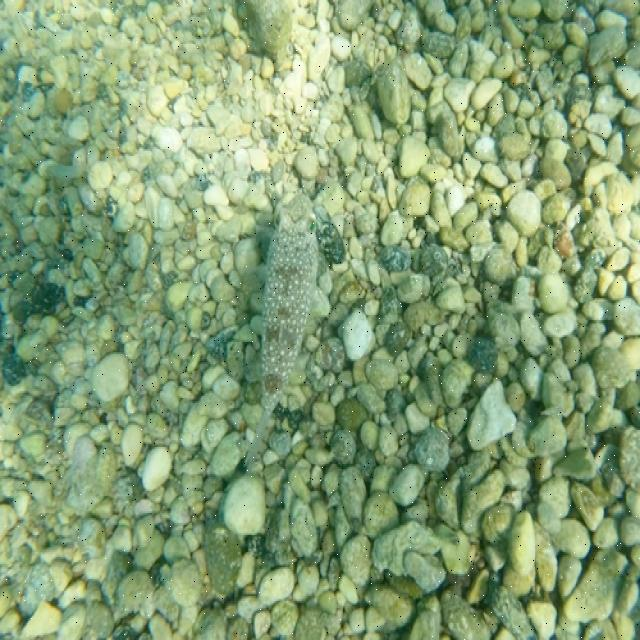Balik: (246, 195, 317, 468)
